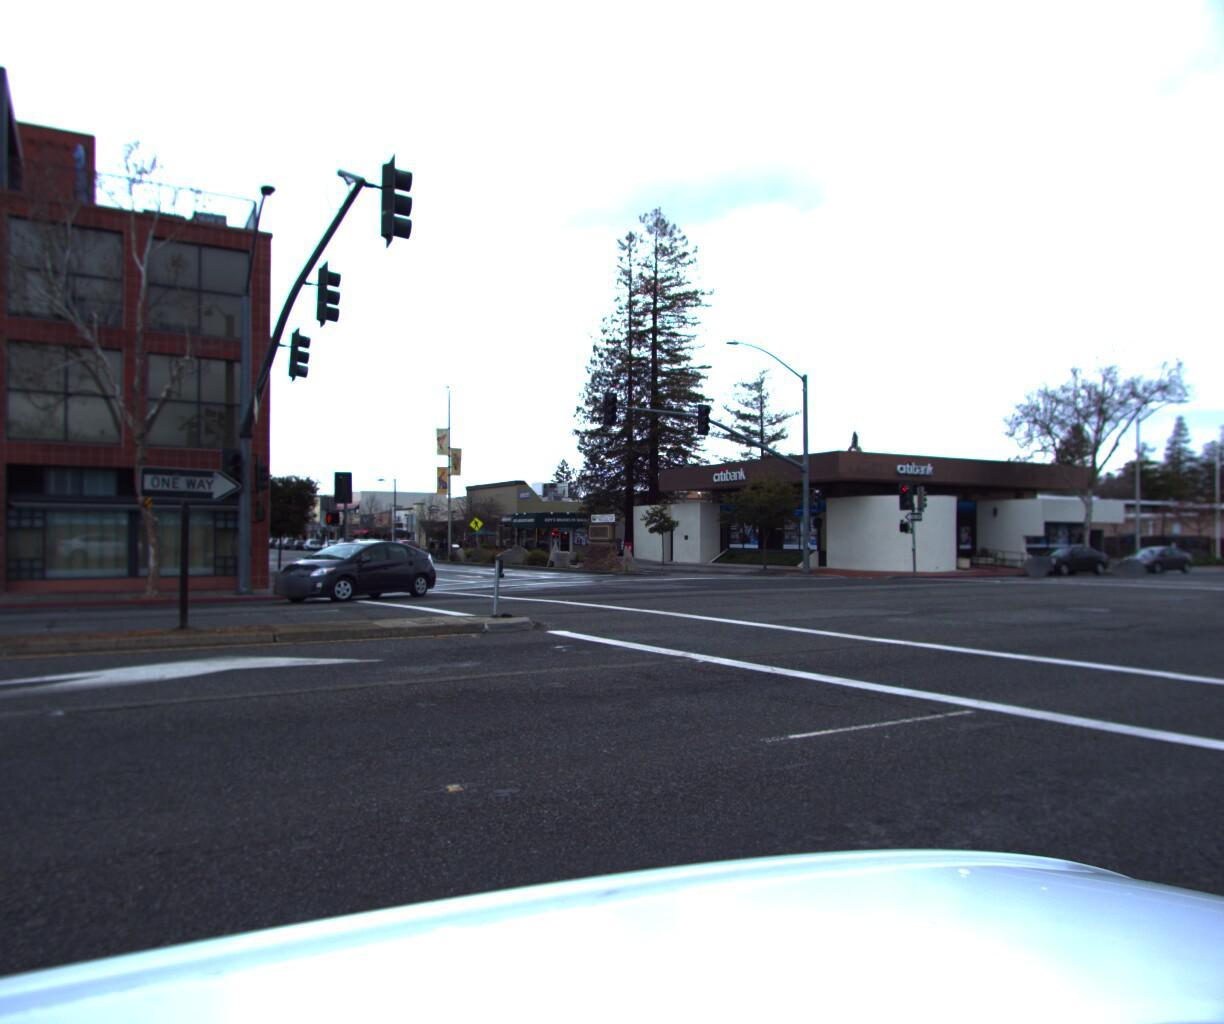car: (255, 545, 436, 613), (1013, 555, 1108, 589), (1107, 548, 1192, 583), (407, 549, 452, 570), (388, 545, 423, 564)
